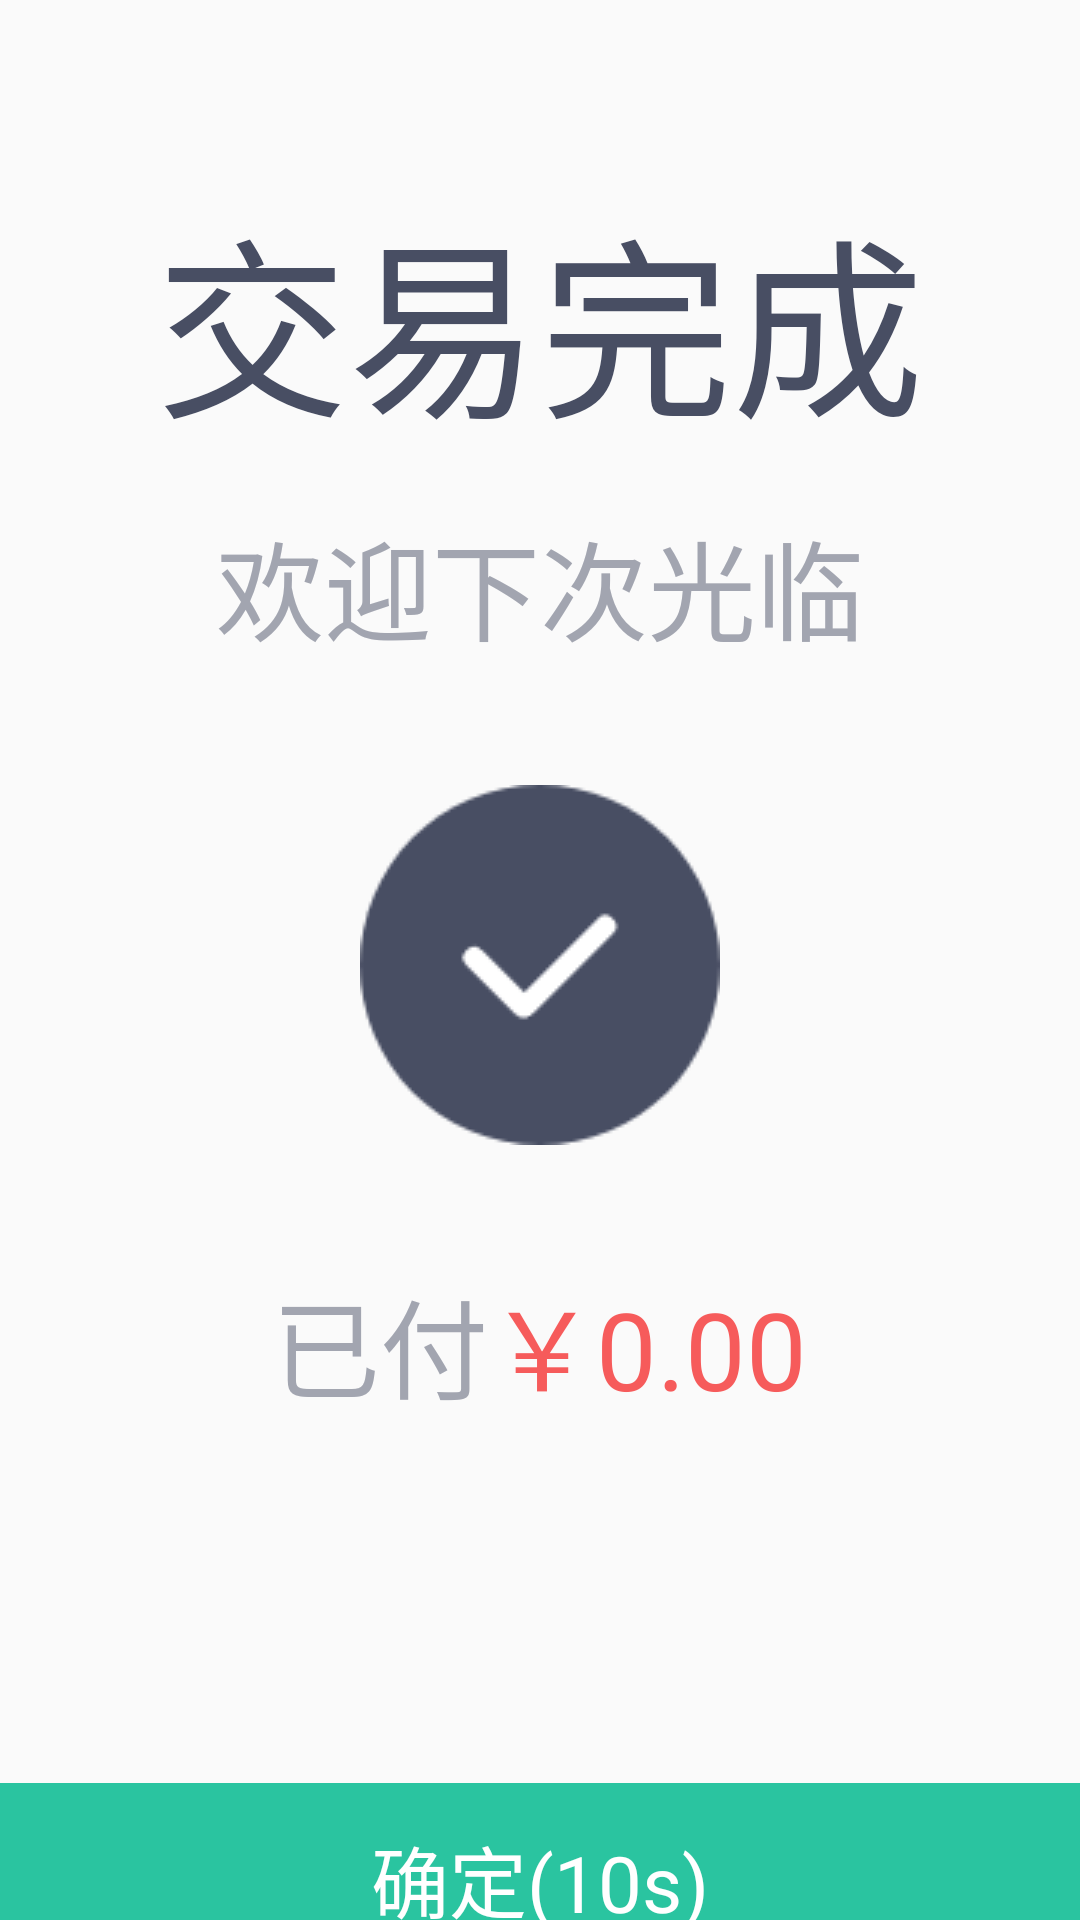

Icon click points for this 1080px x 1920px phone screenshot, format point (x, y):
success: point (540, 965)
